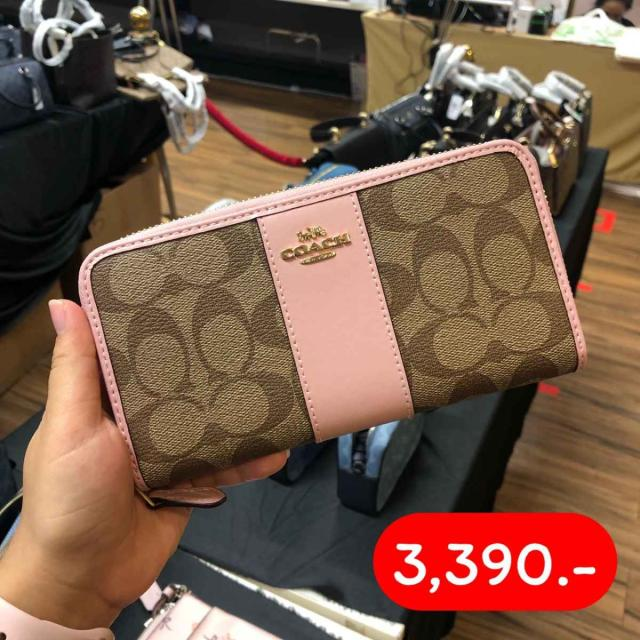Handbag: (71, 132, 628, 490)
